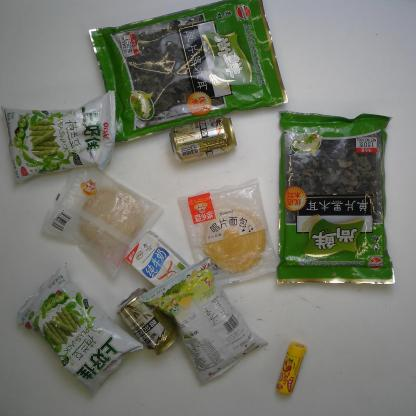Alcohol: (116, 288, 179, 356), (169, 115, 237, 163)
Candy: (276, 342, 308, 395)
Dessert: (40, 165, 164, 279), (178, 177, 278, 287)
Dried Food: (88, 0, 288, 143), (276, 110, 396, 285)
Milk: (124, 230, 190, 287)
Puffed Food: (17, 262, 144, 396), (138, 256, 268, 386), (0, 90, 118, 185)
